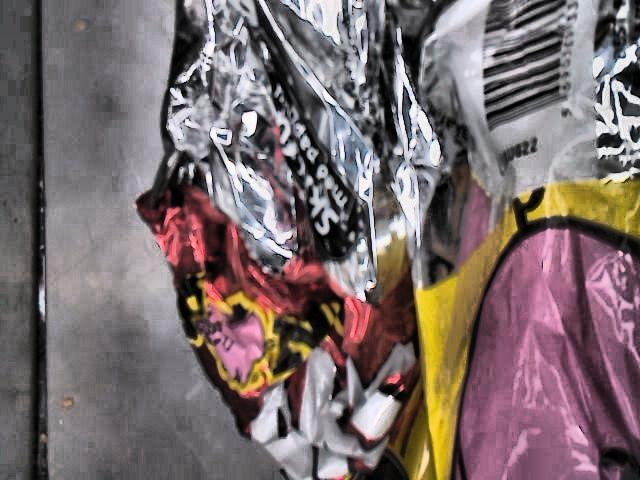Plastic: (141, 0, 640, 480)
